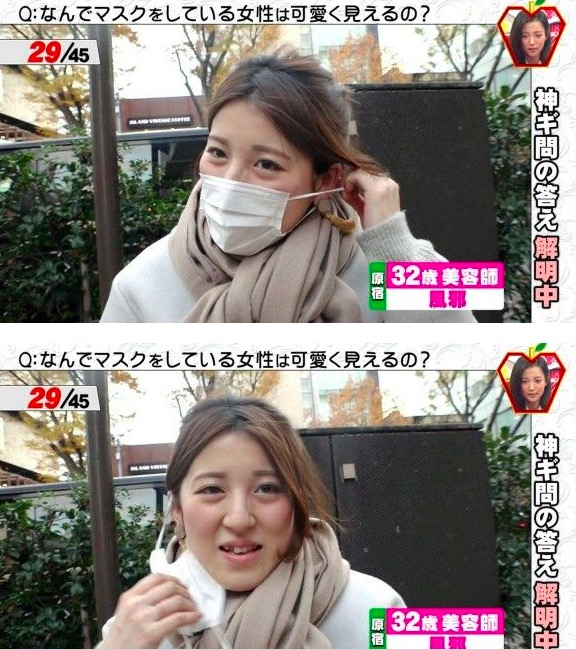mask: (197, 173, 291, 257)
